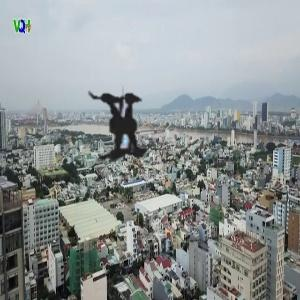drone: (11, 4, 241, 234)
